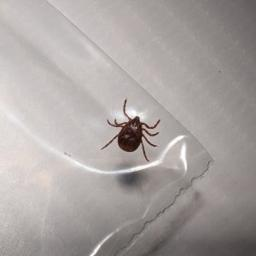Rhipicephalus sanguineus: (99, 98, 161, 163)
